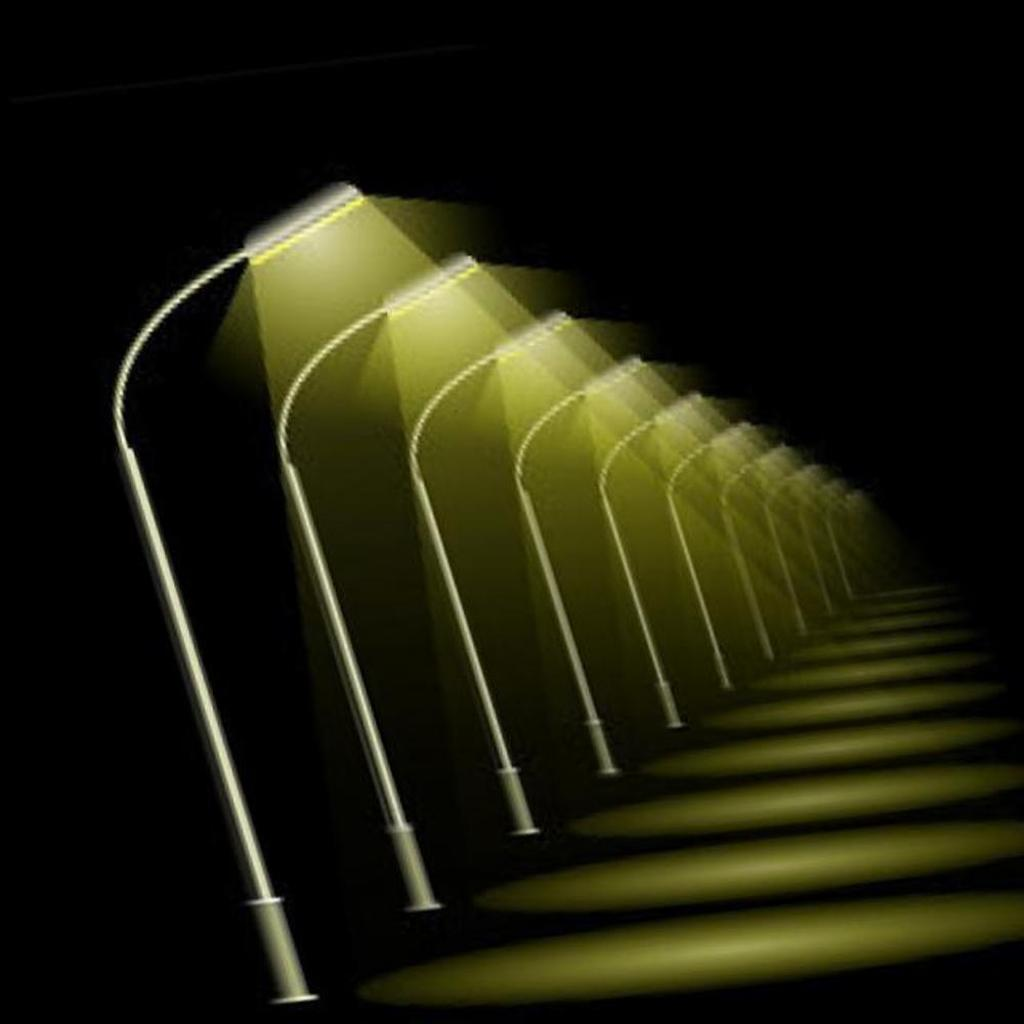shelf: (7, 91, 586, 1024), (198, 219, 669, 963)
